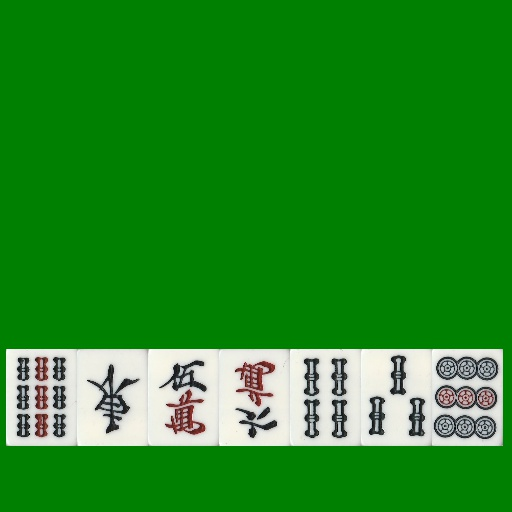3s: (361, 349, 432, 446)
4s: (290, 349, 361, 446)
5m: (148, 349, 219, 446)
6m: (219, 349, 290, 446)
9p: (432, 349, 503, 446)
9s: (6, 349, 77, 446)
east: (77, 349, 148, 446)
